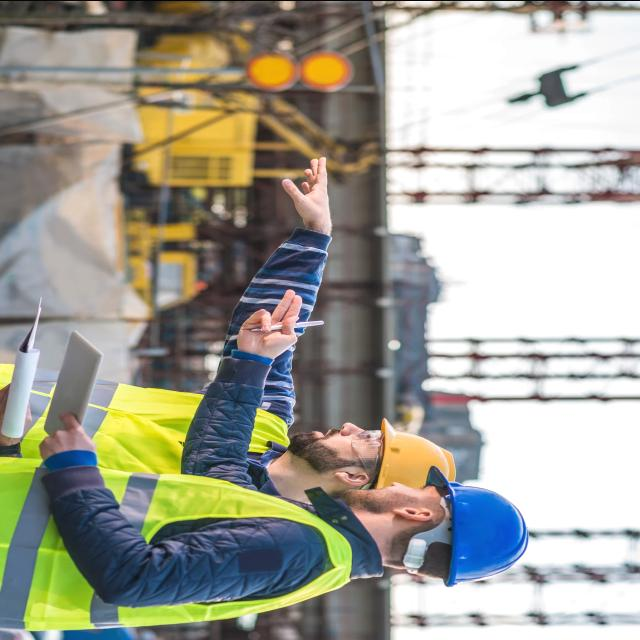Hard Hat: (398, 468, 532, 594), (364, 418, 464, 500), (244, 52, 299, 94)
Reflective Vest: (4, 474, 370, 628), (0, 360, 304, 511)
